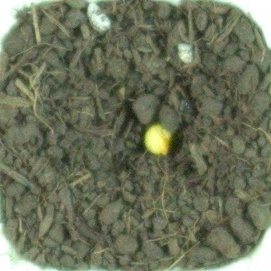chilli seed: (142, 123, 174, 156)
